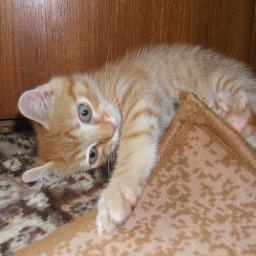catnose: (104, 121, 117, 139)
